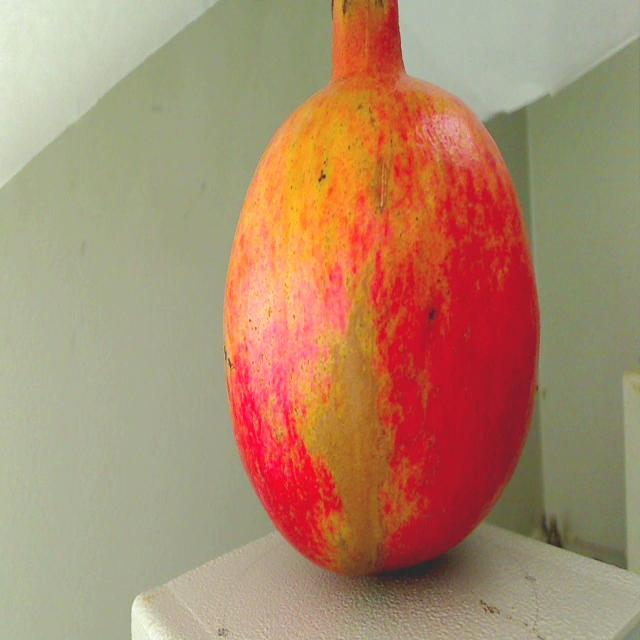pomegranate: (205, 0, 549, 589)
